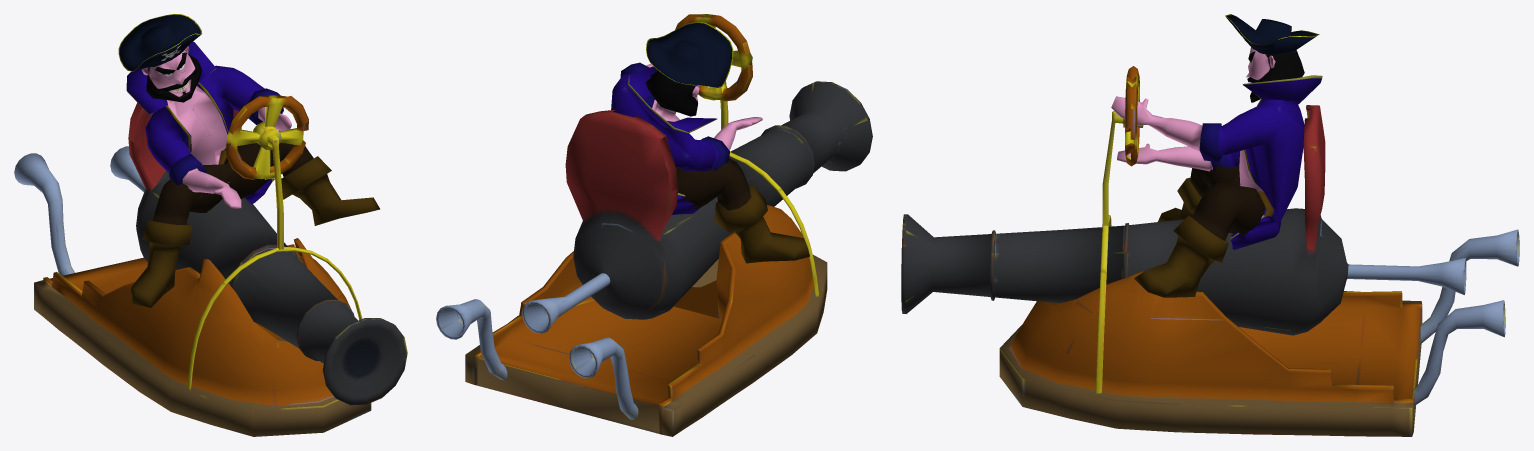
Rendered from pirataGiroDer_000178.obj.
3 views of the same model, side by side, from view 1: azimuth 30°, elevation 25°; view 2: azimuth 150°, elevation 25°; view 3: azimuth 270°, elevation 25° (orthographic). The views are drawn at different scales.
Visible parts, largest first — view 1: carro_pirata, Pirata_PirataH_Pirata_PirataH.001; view 2: carro_pirata, Pirata_PirataH_Pirata_PirataH.001; view 3: carro_pirata, Pirata_PirataH_Pirata_PirataH.001.
Part boxes in pixels (<box>): carro_pirata: <box>14,95,407,436</box>; Pirata_PirataH_Pirata_PirataH.001: <box>118,14,379,307</box>; carro_pirata: <box>436,14,872,436</box>; Pirata_PirataH_Pirata_PirataH.001: <box>611,22,809,263</box>; carro_pirata: <box>901,66,1519,436</box>; Pirata_PirataH_Pirata_PirataH.001: <box>1111,14,1322,297</box>.
Bounding box in the file's own units: 5.65 × 7.43 × 12.1.
2 materials, 2 textured.
